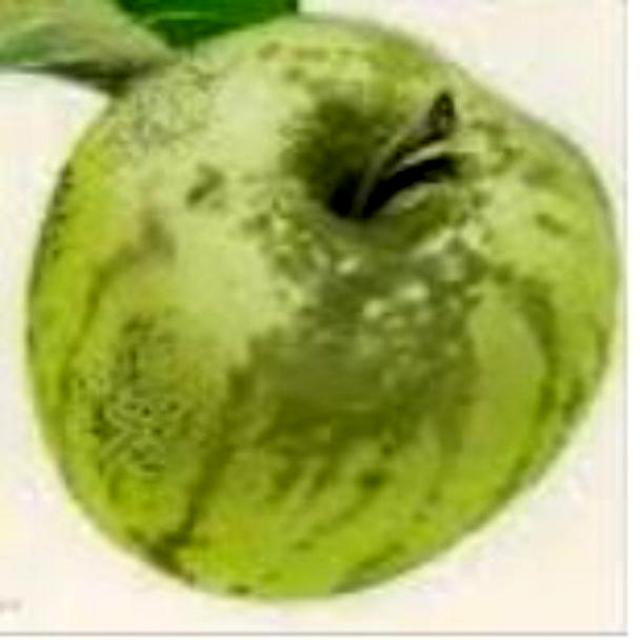BLOTCH: (42, 14, 605, 594)
